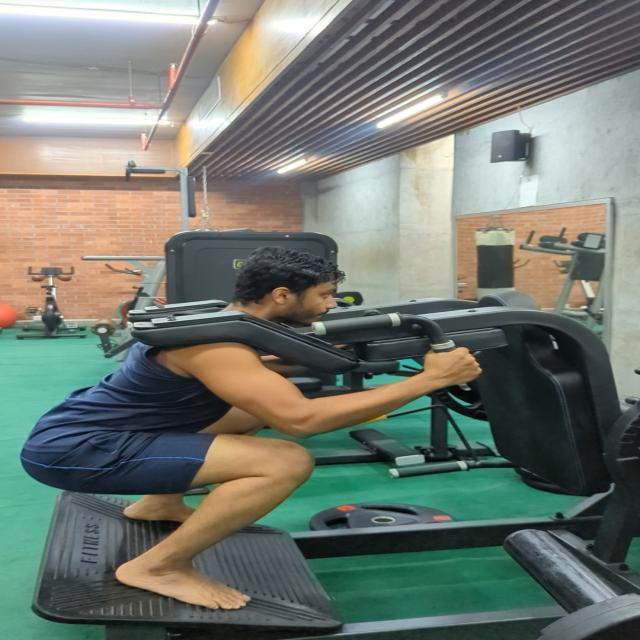Normal_SquatsWithBarbell: (0, 151, 537, 640)
